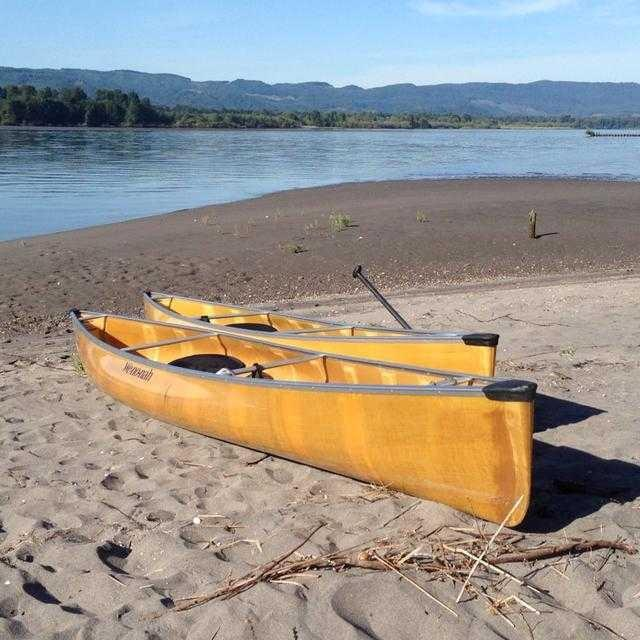kayak: (68, 302, 535, 528), (141, 289, 499, 378)
